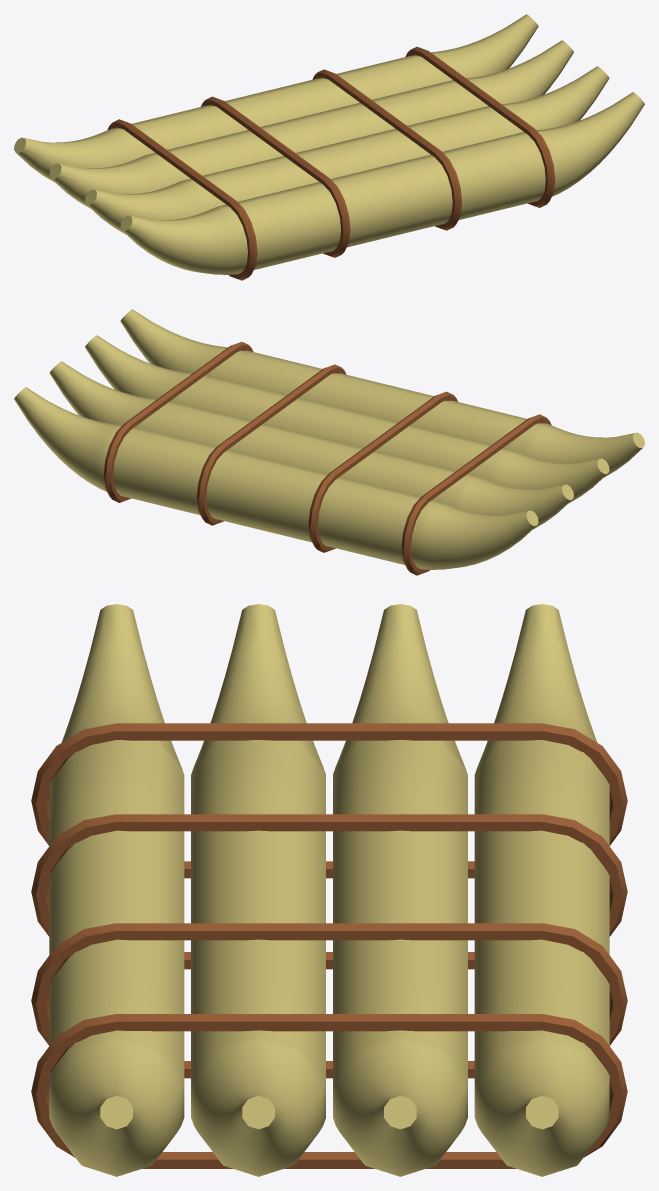
File: K_Raft.fbx
3 renders of one model, top to bottom at view 1: azimuth 30°, elevation 25°; view 2: azimuth 150°, elevation 25°; view 3: azimuth 270°, elevation 25°, orthographic. The views are drawn at different scales.
Parts seen in each view (by area): view 1: K_Raft; view 2: K_Raft; view 3: K_Raft.
Boxes of the visible parts, x1,y1,x2,y2 form: K_Raft: [14, 14, 644, 280]; K_Raft: [14, 309, 644, 575]; K_Raft: [31, 604, 627, 1176].
Bounding box in the file's own units: 2.8 × 0.4464 × 1.39.
